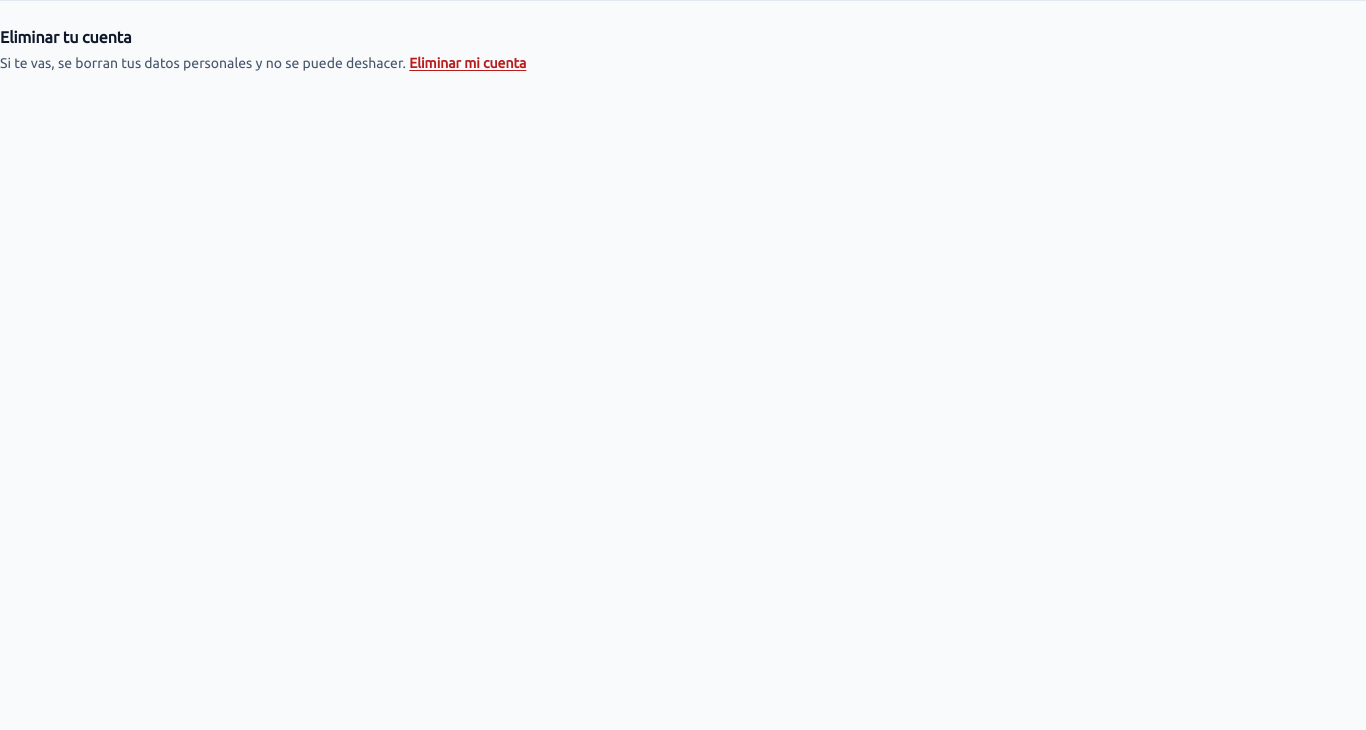
Test: DeleteAccountSection › si la contraseña no es correcta, lo dice y no cierra la sesión
Click the button "Eliminar mi cuenta" at (468, 63), box [409,41,526,85]
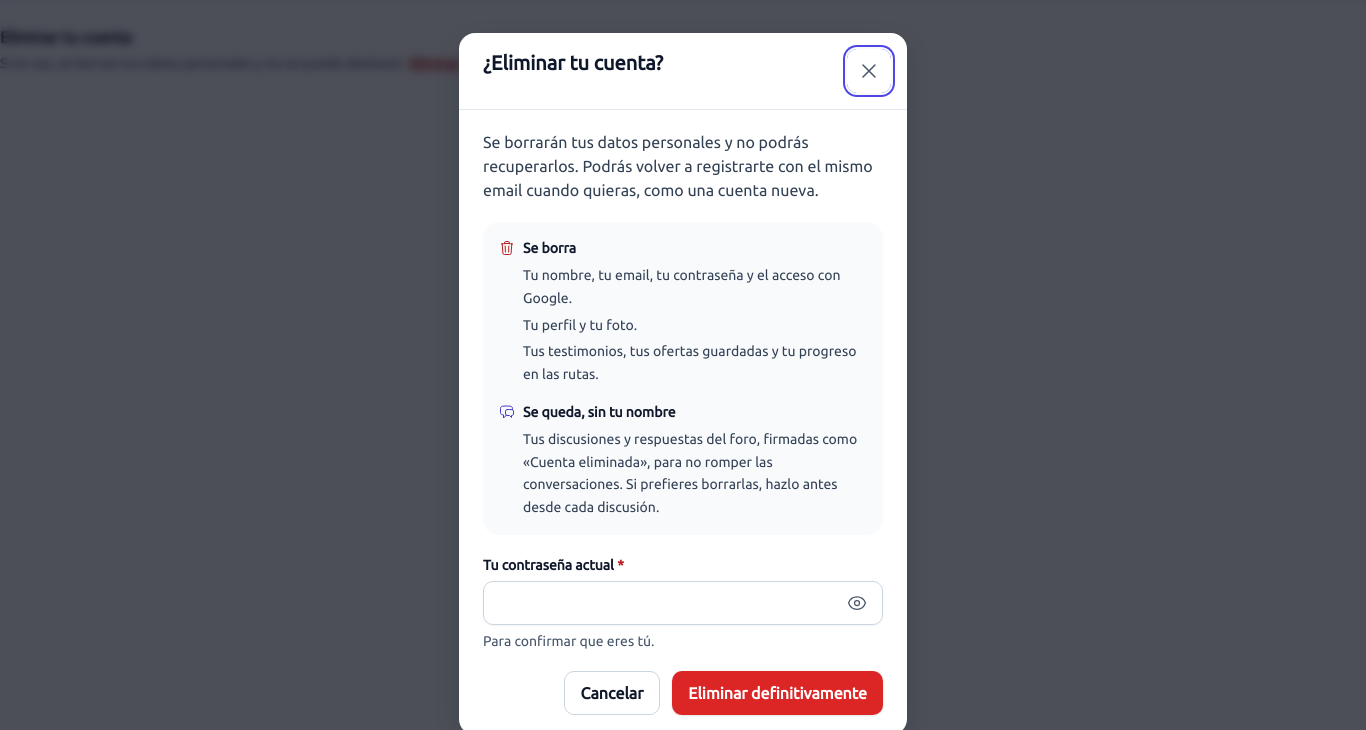
Type "otra" into the password field labelled "Tu contraseña actual *" at (683, 603), box [483,581,883,625]
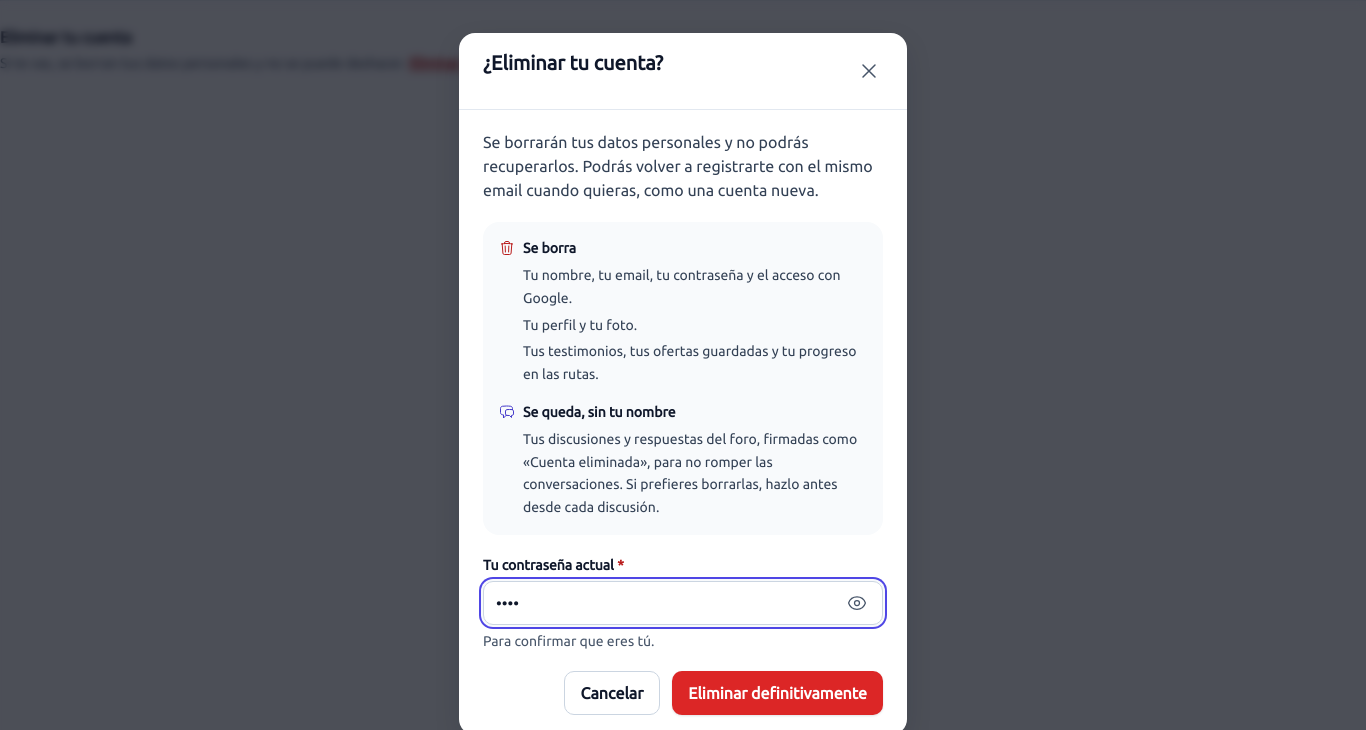
Click the button "Eliminar definitivamente" at (778, 693), box [672,671,883,715]
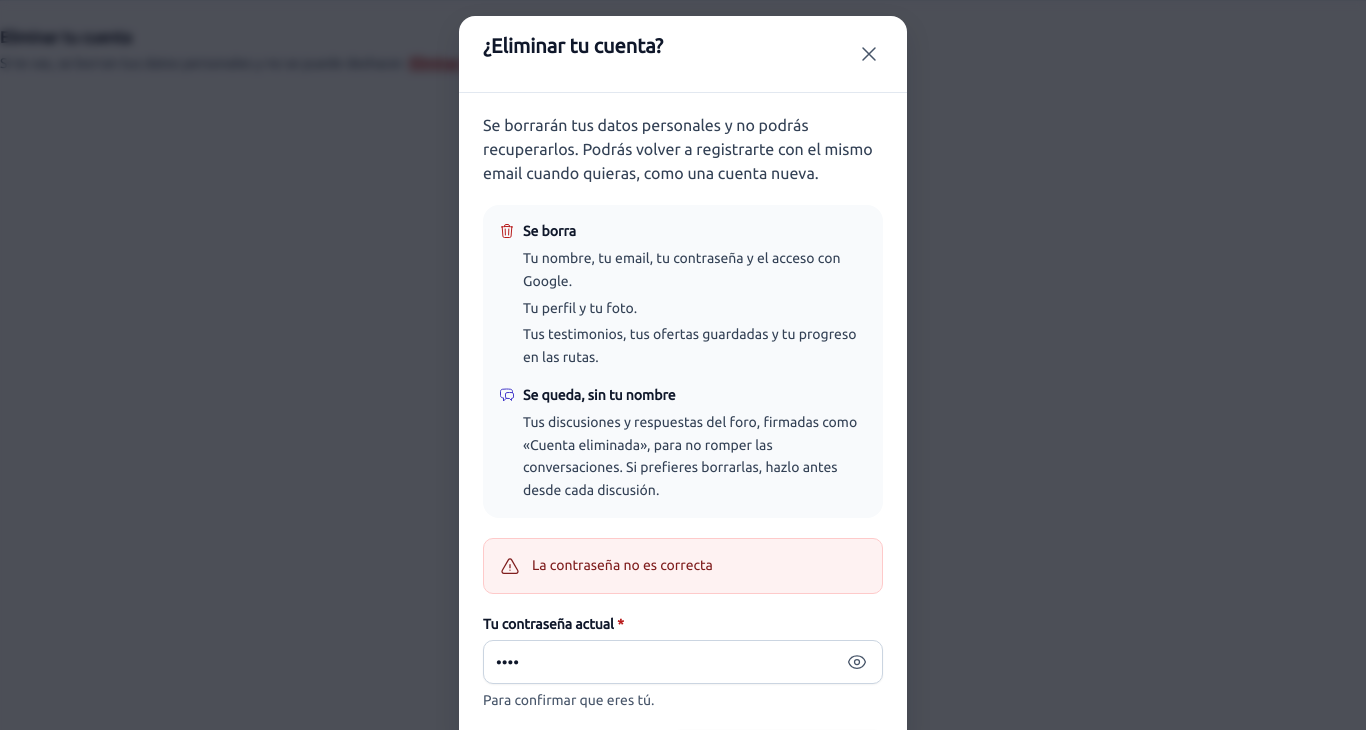
Result: the message reads "La contraseña no es correcta" at [532,557,713,573]
